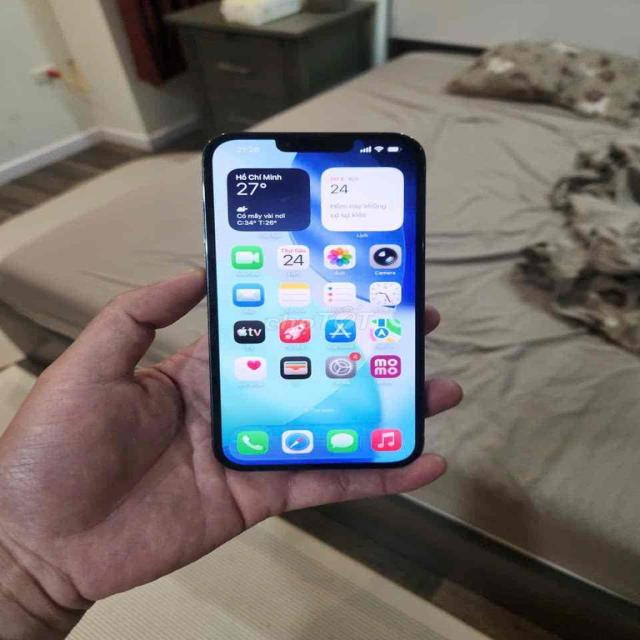gen_12_13: (190, 118, 436, 486)
